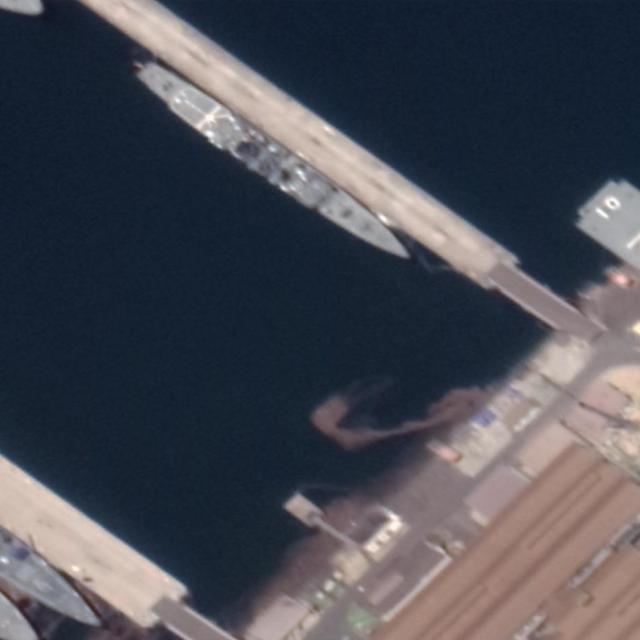Destroyer: (134, 52, 418, 273)
